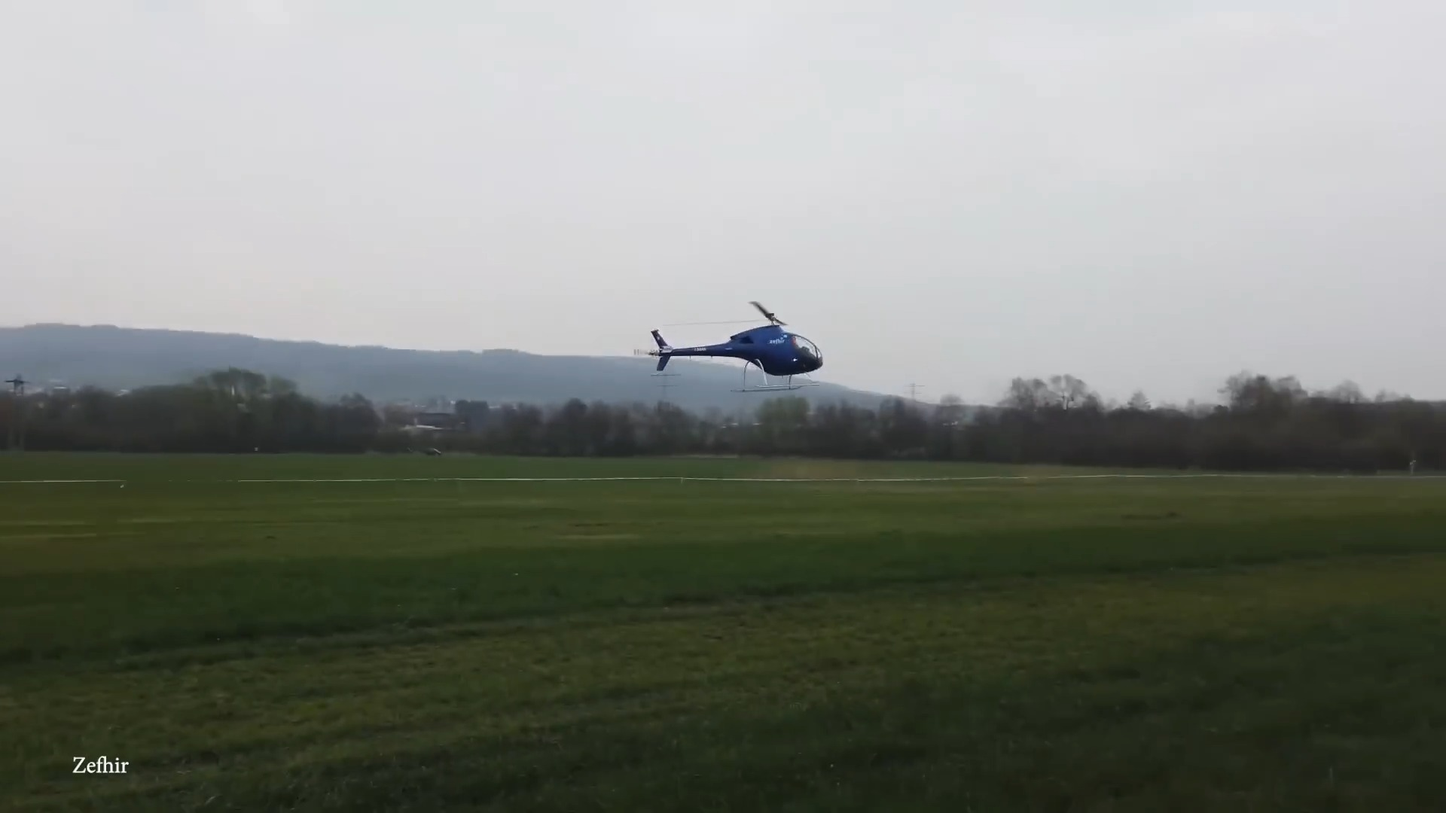helicopter: (644, 300, 825, 393)
